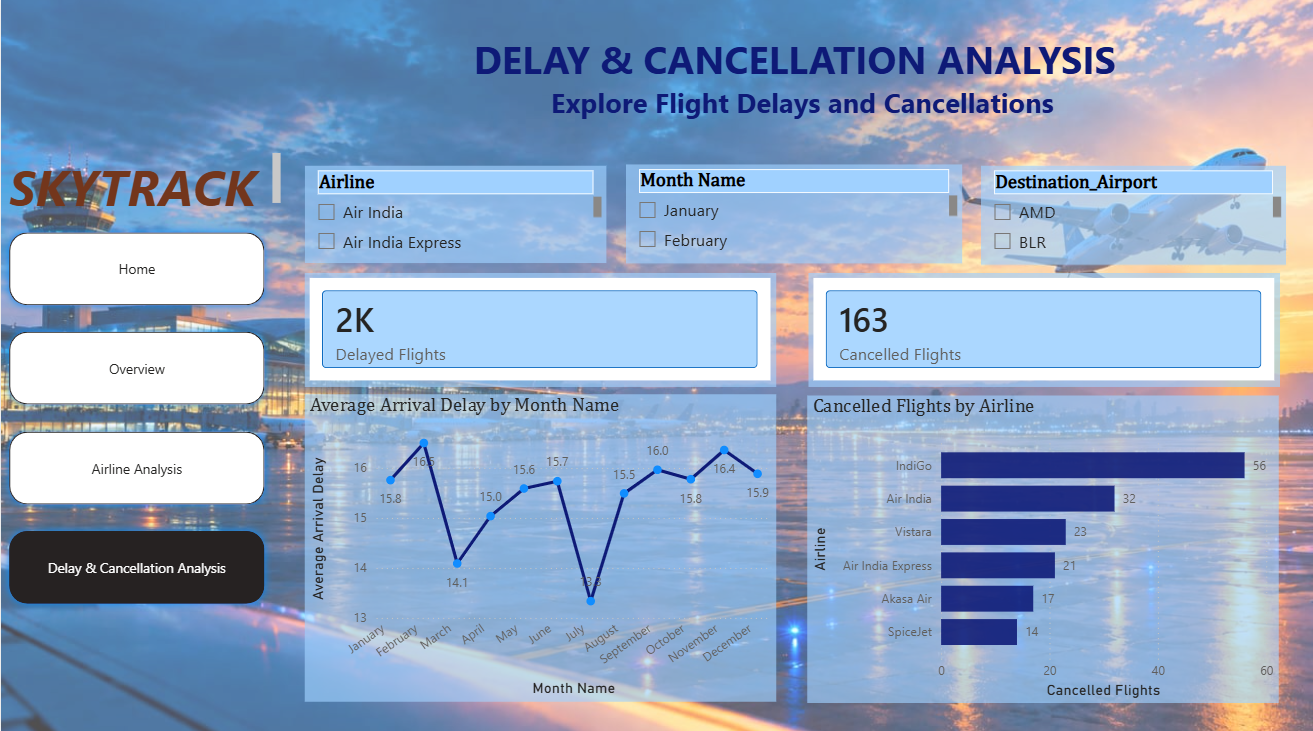

What the dashboard file says about the page in this screenshot:
{"tool":"powerbi","page":{"name":"Delay & Cancellation Analysis","canvas":[1280,720],"ordinal":3},"visuals":[{"type":"textbox","box":[443.5,29.4,661.2,103.5],"z":0},{"type":"slicer","fields":{"Values":["Flights.Airline"]},"box":[296.5,163.5,294.4,95.3],"z":1000},{"type":"slicer","fields":{"Values":["DateTable.Month Name"]},"box":[609.4,162.4,328.2,96.5],"z":2000},{"type":"slicer","fields":{"Values":["Flights.Destination_Airport"]},"box":[956.5,163.5,298,96.5],"z":3000},{"type":"cardVisual","fields":{"Data":["DAX_Measures.Delayed Flights"]},"box":[296.8,267.8,459.7,111],"z":4000},{"type":"cardVisual","fields":{"Data":["DAX_Measures.Cancelled Flights"]},"box":[787.8,267.8,459.7,111],"z":5000},{"type":"lineChart","fields":{"Category":["DateTable.Month Name"],"Y":["DAX_Measures.Average Arrival Delay"]},"box":[296.5,387.1,460,300],"z":6000},{"type":"barChart","fields":{"Category":["Flights.Airline"],"Y":["DAX_Measures.Cancelled Flights"]},"box":[787.1,388.2,460,300],"z":7000},{"type":"pageNavigator","box":[0,221.2,265.9,378.8],"z":8000},{"type":"textbox","box":[0,145.9,277.6,65.9],"z":9000}]}

Visuals, with their boxes in screenshot pixels (x1, y1, x2, y2), scaled from the page's 1280x720 canvas onto the 1313x731 screenshot:
textbox: detection(455, 30, 1133, 135)
slicer - Flights.Airline: detection(304, 166, 606, 263)
slicer - DateTable.Month Name: detection(625, 165, 962, 263)
slicer - Flights.Destination_Airport: detection(981, 166, 1287, 264)
cardVisual - DAX_Measures.Delayed Flights: detection(304, 272, 776, 385)
cardVisual - DAX_Measures.Cancelled Flights: detection(808, 272, 1280, 385)
lineChart - DateTable.Month Name x DAX_Measures.Average Arrival Delay: detection(304, 393, 776, 698)
barChart - Flights.Airline x DAX_Measures.Cancelled Flights: detection(807, 394, 1279, 699)
pageNavigator: detection(0, 225, 273, 609)
textbox: detection(0, 148, 285, 215)
